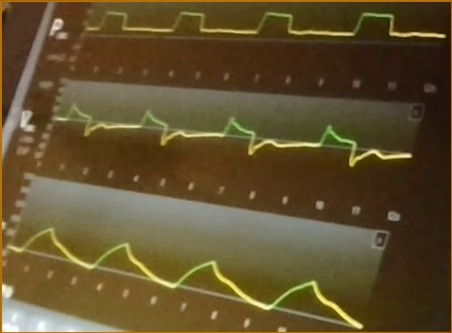Premature_cycling Flow: (55, 99, 410, 168)
Premature_cycling Volume: (12, 225, 362, 329)
